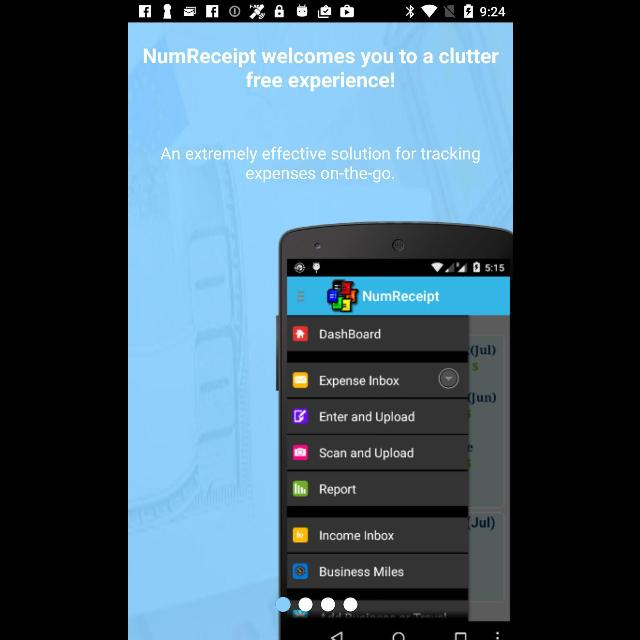image: (274, 220, 512, 640)
pageindicator: (274, 596, 358, 614)
text: (142, 47, 500, 93), (158, 146, 480, 184)
uppertaskbar: (128, 1, 512, 23)
